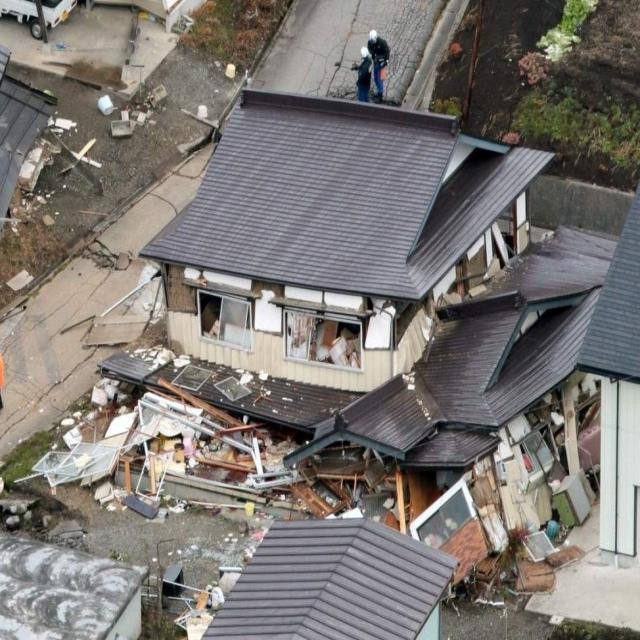collapsed_building: (78, 207, 612, 534)
